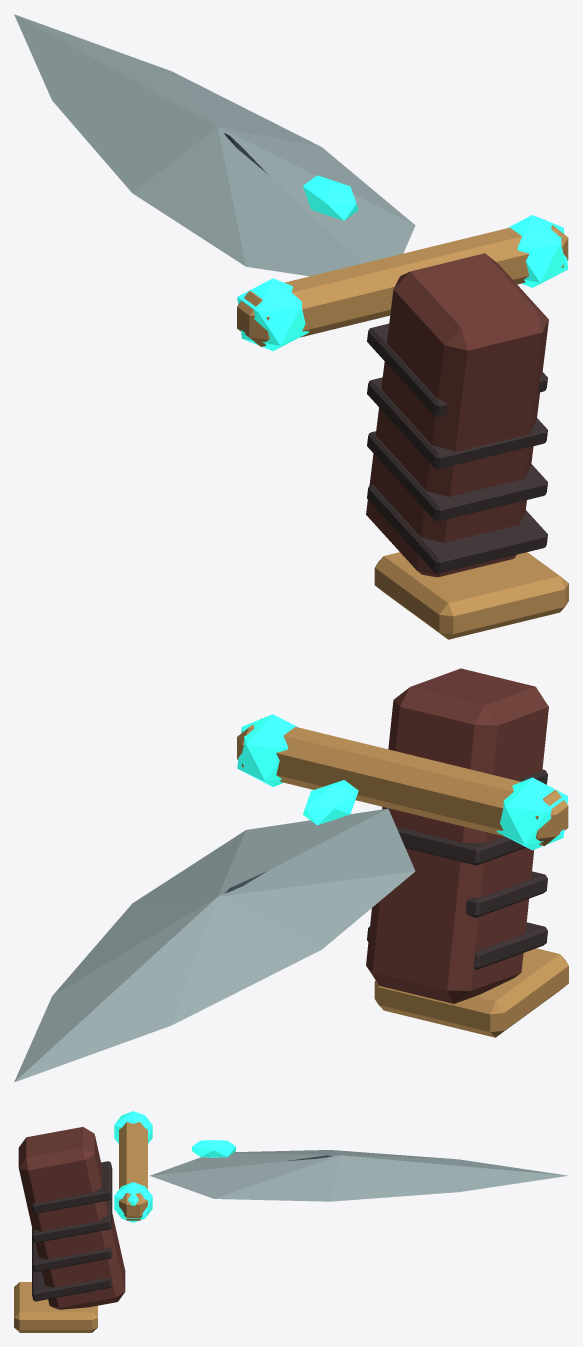
File: 01_thornwake.glb
3 renders of one model, top to bottom at view 1: azimuth 30°, elevation 25°; view 2: azimuth 150°, elevation 25°; view 3: azimuth 270°, elevation 25°, orthographic. The views are drawn at different scales.
Parts seen in each view (by area): view 1: Blade | leaf of blackened silver, Grip | wrapped heartwood, Grip | pommel, Guard | swept quillons, Grip | dark binding, Grip | dark binding.001, Grip | dark binding.002, Guard | cut finial, Guard | cut finial.001, Grip | dark binding.003, Blade | embedded seal; view 2: Blade | leaf of blackened silver, Grip | wrapped heartwood, Guard | swept quillons, Grip | pommel, Guard | cut finial, Guard | cut finial.001, Grip | dark binding.002, Blade | embedded seal, Grip | dark binding.001, Grip | dark binding; view 3: Blade | leaf of blackened silver, Grip | wrapped heartwood, Grip | pommel, Guard | swept quillons, Grip | dark binding.003, Grip | dark binding, Grip | dark binding.002, Grip | dark binding.001, Guard | cut finial.001, Blade | embedded seal, Guard | cut finial.
Boxes of the visible parts, x1,y1,x2,y2 form: Blade | leaf of blackened silver: [14, 14, 415, 276]; Grip | wrapped heartwood: [366, 253, 548, 577]; Grip | pommel: [374, 552, 568, 639]; Guard | swept quillons: [237, 219, 568, 346]; Grip | dark binding: [367, 484, 547, 573]; Grip | dark binding.001: [367, 431, 547, 521]; Grip | dark binding.002: [367, 377, 547, 469]; Guard | cut finial: [237, 278, 308, 350]; Guard | cut finial.001: [507, 215, 568, 287]; Grip | dark binding.003: [367, 323, 547, 417]; Blade | embedded seal: [303, 175, 358, 220]; Blade | leaf of blackened silver: [14, 808, 415, 1082]; Grip | wrapped heartwood: [366, 668, 548, 1003]; Guard | swept quillons: [237, 718, 568, 846]; Grip | pommel: [374, 948, 568, 1037]; Guard | cut finial: [496, 777, 568, 850]; Guard | cut finial.001: [237, 714, 297, 786]; Grip | dark binding.002: [396, 827, 525, 865]; Blade | embedded seal: [303, 780, 358, 825]; Grip | dark binding.001: [465, 871, 547, 917]; Grip | dark binding: [367, 922, 547, 969]; Blade | leaf of blackened silver: [150, 1150, 568, 1201]; Grip | wrapped heartwood: [18, 1127, 125, 1309]; Grip | pommel: [14, 1282, 97, 1332]; Guard | swept quillons: [119, 1122, 147, 1220]; Grip | dark binding.003: [32, 1161, 112, 1213]; Grip | dark binding: [32, 1266, 112, 1301]; Grip | dark binding.002: [32, 1198, 112, 1242]; Grip | dark binding.001: [32, 1237, 112, 1272]; Guard | cut finial.001: [114, 1182, 152, 1222]; Blade | embedded seal: [192, 1140, 235, 1157]; Guard | cut finial: [114, 1111, 152, 1143].
Size of the model in its own units: 0.3226 by 0.3087 by 0.86.
